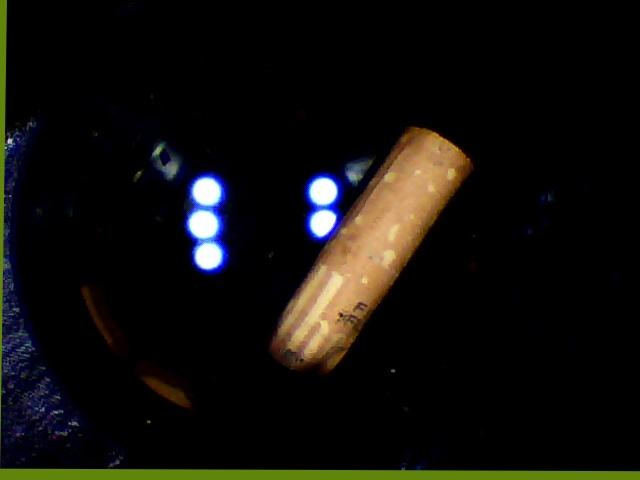megot: (260, 115, 491, 388)
